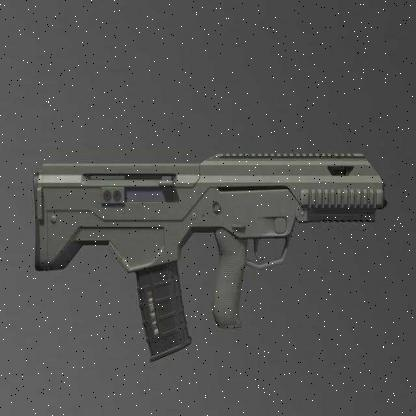rifle: (11, 103, 388, 385)
